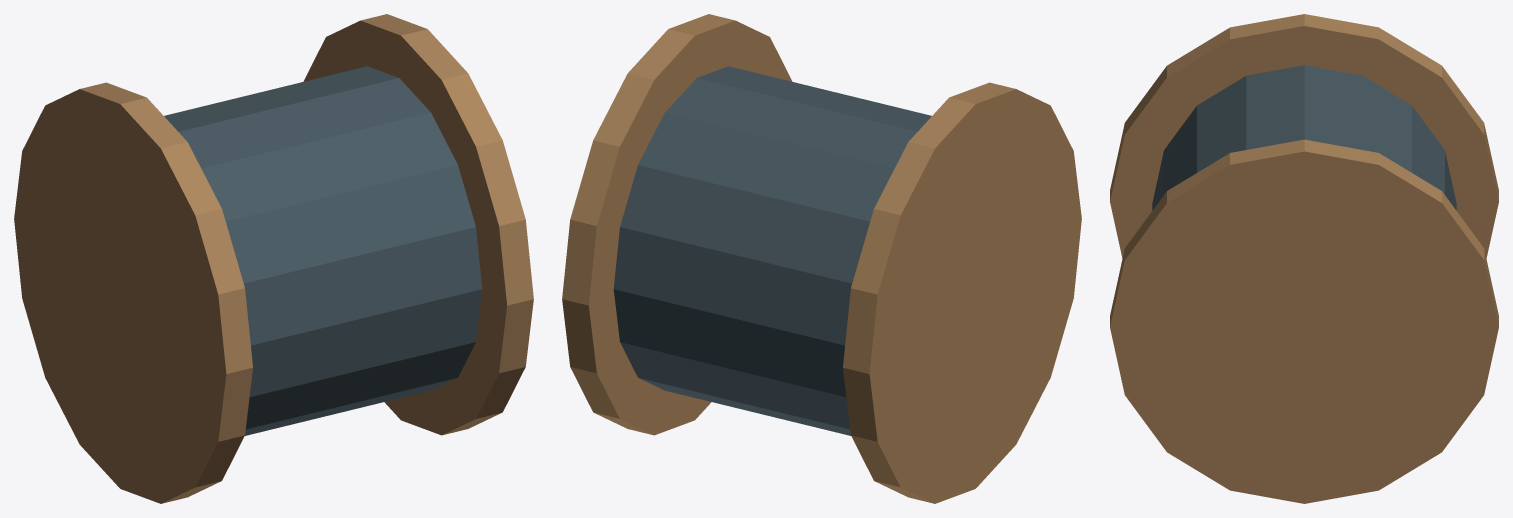
The model's file is cable_drum.glb.
3 views of the same model, side by side, from view 1: azimuth 30°, elevation 25°; view 2: azimuth 150°, elevation 25°; view 3: azimuth 270°, elevation 25° (orthographic). The views are drawn at different scales.
Parts seen in each view (by area): view 1: cable_drum; view 2: cable_drum; view 3: cable_drum.
Part boxes in pixels (bbox=[...]): cable_drum: bbox=[14, 14, 533, 503]; cable_drum: bbox=[562, 14, 1081, 503]; cable_drum: bbox=[1110, 14, 1498, 503].
Size of the model in its own units: 0.92 by 1.1 by 1.1.
